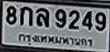letters: (35, 6, 51, 29), (19, 6, 35, 27), (68, 8, 81, 31), (81, 9, 94, 31), (94, 11, 107, 33), (54, 8, 67, 29), (6, 5, 18, 26)
province: (17, 32, 94, 47)
